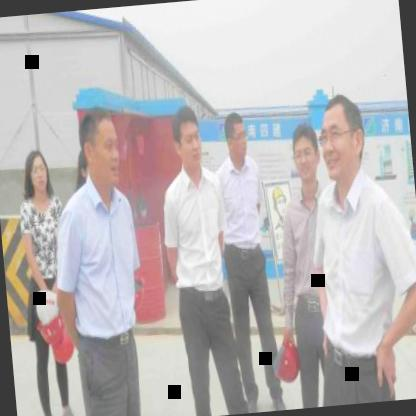head: (314, 89, 370, 182), (75, 100, 126, 192), (286, 119, 324, 184), (172, 106, 208, 174), (22, 145, 53, 202), (221, 108, 252, 163)
